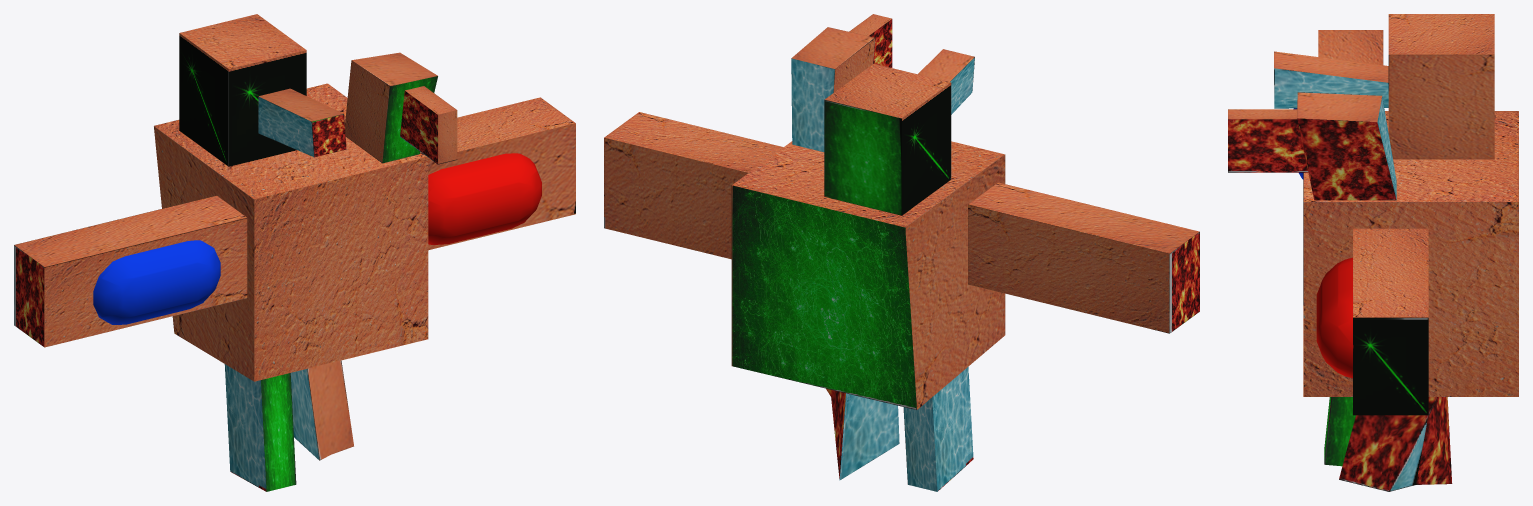
File: Robot funny.glb
The picture shows the model from 3 angles, left to right: view 1: azimuth 30°, elevation 25°; view 2: azimuth 150°, elevation 25°; view 3: azimuth 270°, elevation 25°; orthographic projection. The views are drawn at different scales.
Parts seen in each view (by area): view 1: Cube, red pill, blue pill; view 2: Cube; view 3: Cube, red pill.
Part boxes in pixels (x1,y1,x2,y2): Cube: (14, 14, 575, 491); red pill: (428, 153, 541, 244); blue pill: (93, 240, 220, 324); Cube: (604, 14, 1199, 491); Cube: (1228, 14, 1518, 491); red pill: (1316, 257, 1352, 378).
Bounding box in the file's own units: 17.38 × 12.4 × 7.47.
3 materials, 1 textured.
